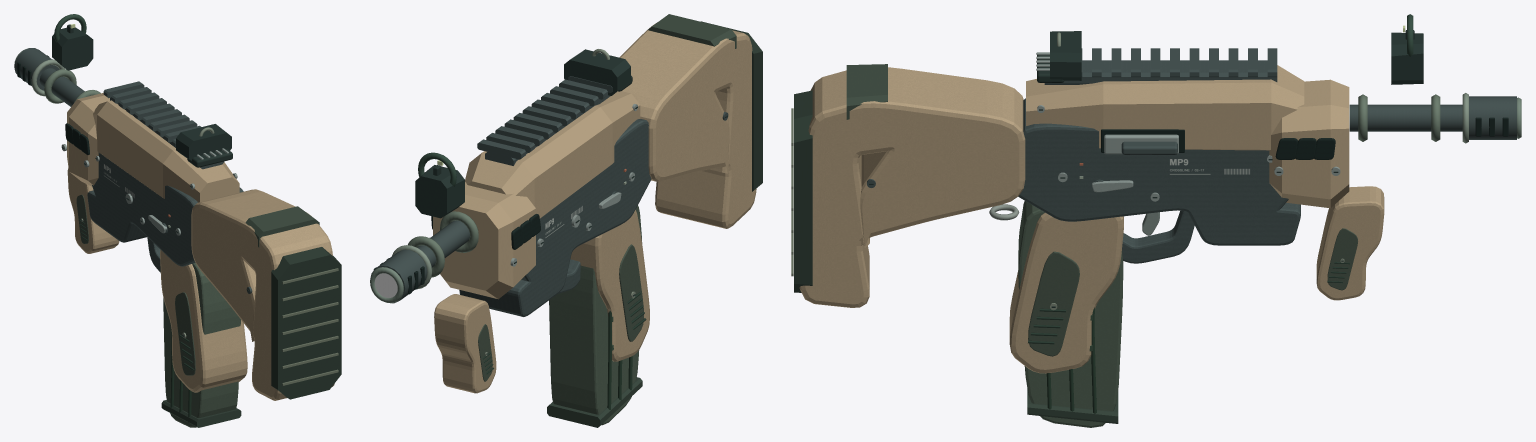
3 views of the same model, side by side, from view 1: azimuth 30°, elevation 25°; view 2: azimuth 150°, elevation 25°; view 3: azimuth 270°, elevation 25° (orthographic). The views are drawn at different scales.
Visible parts, largest first — view 1: mp9, magazine; view 2: mp9, magazine; view 3: mp9, magazine, bolt.
Part boxes in pixels (bbox=[...]): mp9: bbox=[14, 14, 341, 400]; magazine: bbox=[161, 263, 241, 427]; mp9: bbox=[370, 14, 762, 393]; magazine: bbox=[547, 205, 642, 427]; mp9: bbox=[791, 14, 1521, 373]; magazine: bbox=[1018, 201, 1123, 427]; bolt: bbox=[1104, 134, 1178, 154].
Bounding box in the file's own units: 0.1552 × 0.5888 × 0.9728.
29 materials, 16 textured.
